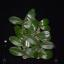leaf: (26, 20, 38, 34), (24, 34, 39, 45), (39, 18, 51, 31), (9, 47, 24, 57), (38, 50, 53, 60), (9, 37, 25, 46), (24, 46, 36, 58), (24, 8, 36, 20), (16, 32, 26, 45), (8, 16, 24, 24), (39, 31, 51, 41), (39, 42, 55, 49), (14, 26, 26, 34)
